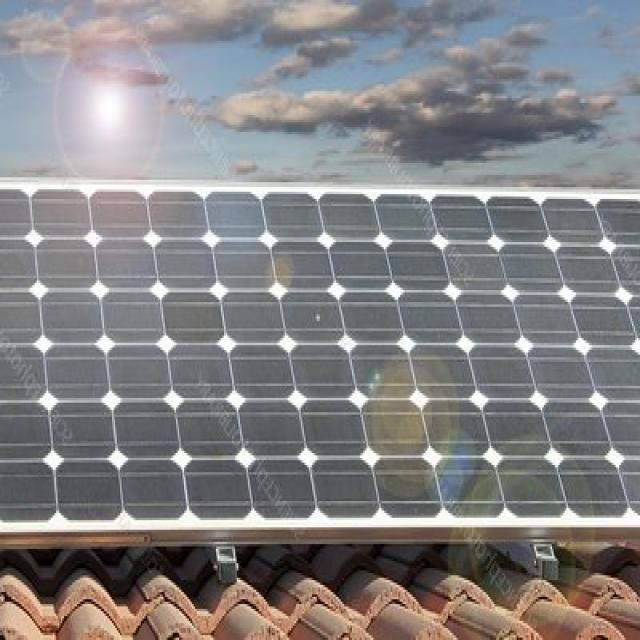no faulty: (0, 196, 640, 538)
